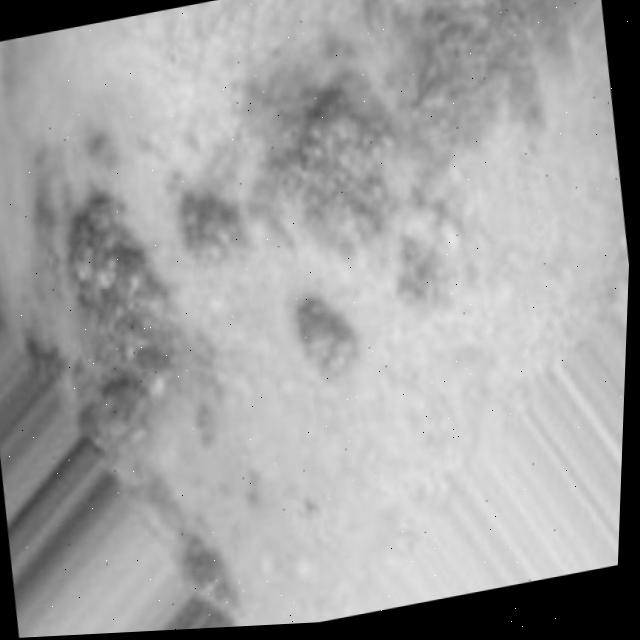Shingles: (177, 0, 581, 382), (55, 202, 186, 436)
